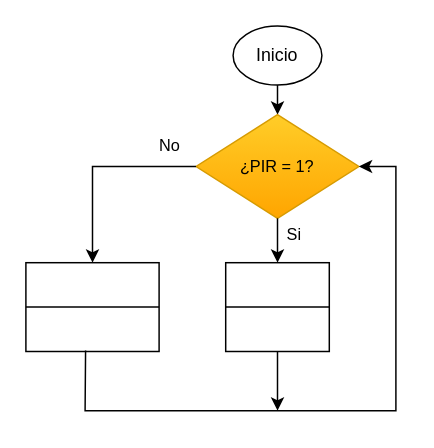
Image size: 434x448. Some labels were removed from this diagram. The box of each missing label's shape, as (x1, y1, x2, y2) in pixels:
Abre puerta Servo 180º: (224, 261, 329, 352)
Cierra puerta Servo 0º: (24, 261, 159, 352)
